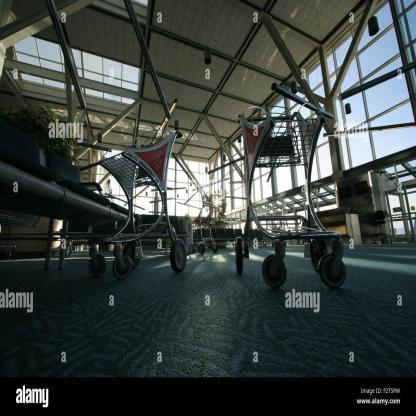airport-trolley: (233, 101, 350, 290), (73, 125, 192, 281), (191, 202, 217, 258)
